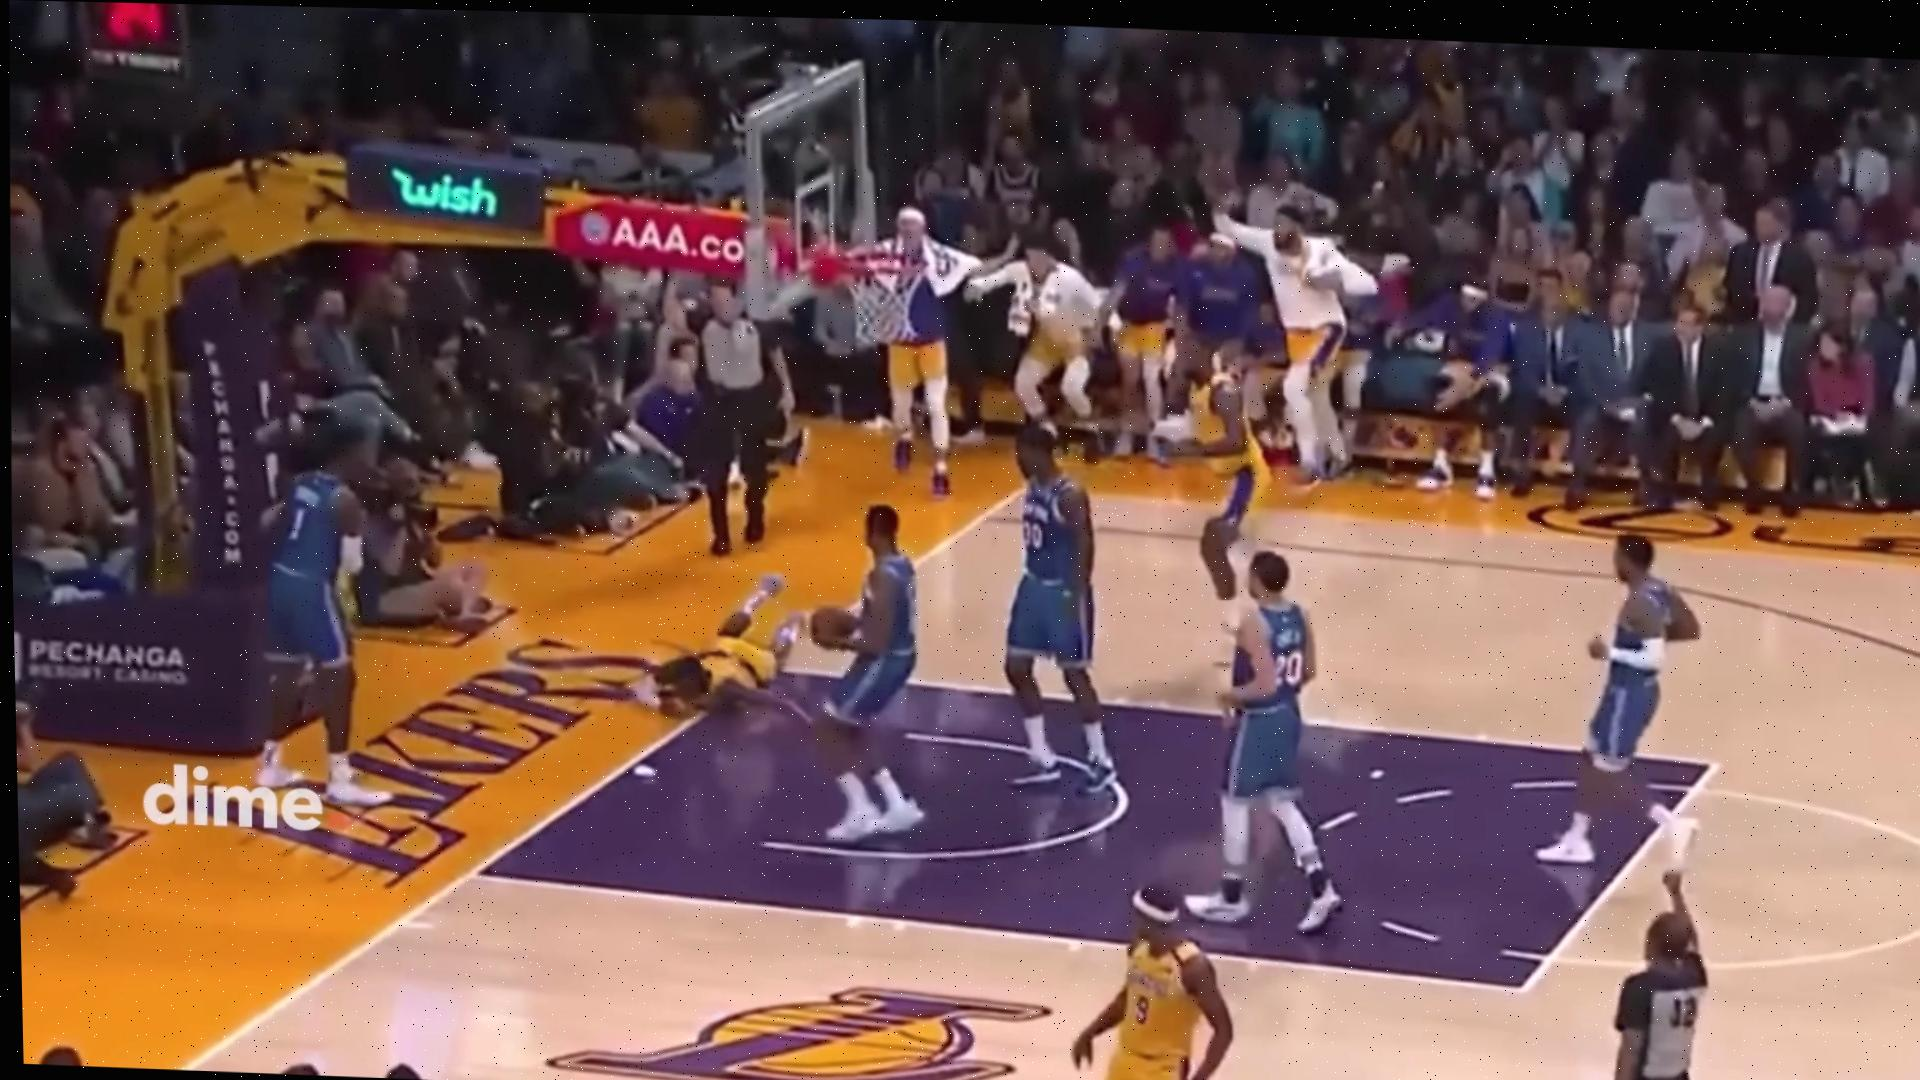no_foul: (1149, 310, 1346, 903)
